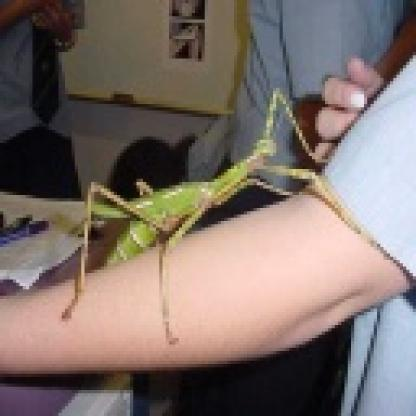grasshopper: (68, 90, 334, 322)
